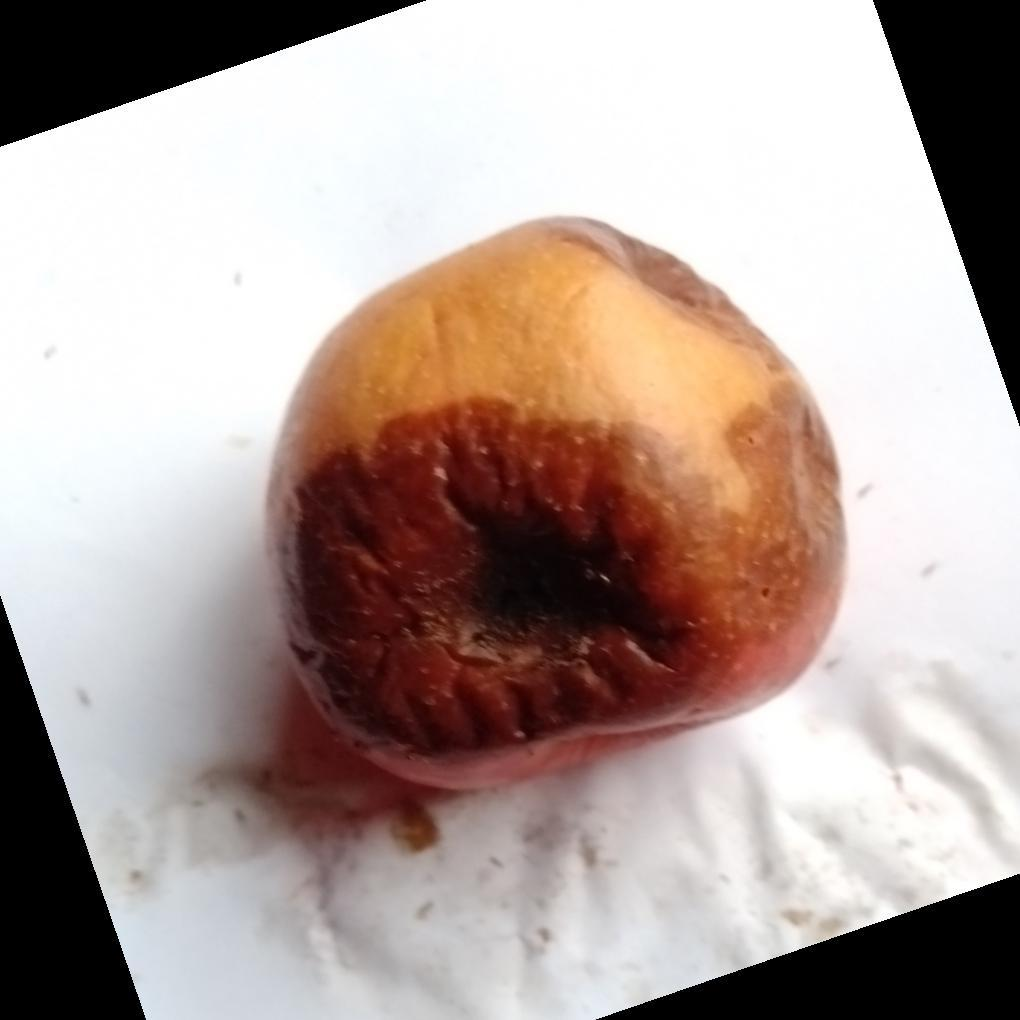FreshOrange: (261, 217, 850, 799)
